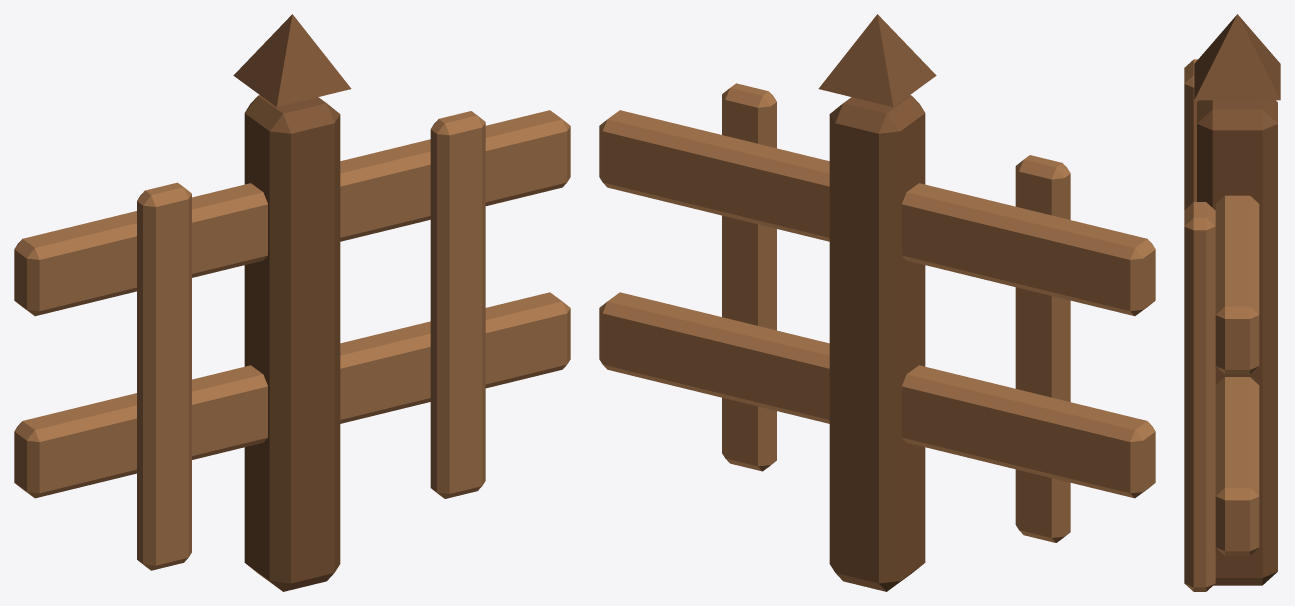
File: fence.glb
3 views of the same model, side by side, from view 1: azimuth 30°, elevation 25°; view 2: azimuth 150°, elevation 25°; view 3: azimuth 270°, elevation 25° (orthographic).
Visible parts, largest first — view 1: fence; view 2: fence; view 3: fence.
Part boxes in pixels (left/top/right/bottom): fence: left=14, top=14, right=570, bottom=591; fence: left=599, top=14, right=1155, bottom=591; fence: left=1184, top=14, right=1280, bottom=591.
Bounding box in the file's own units: 1 × 0.99 × 0.1539.
